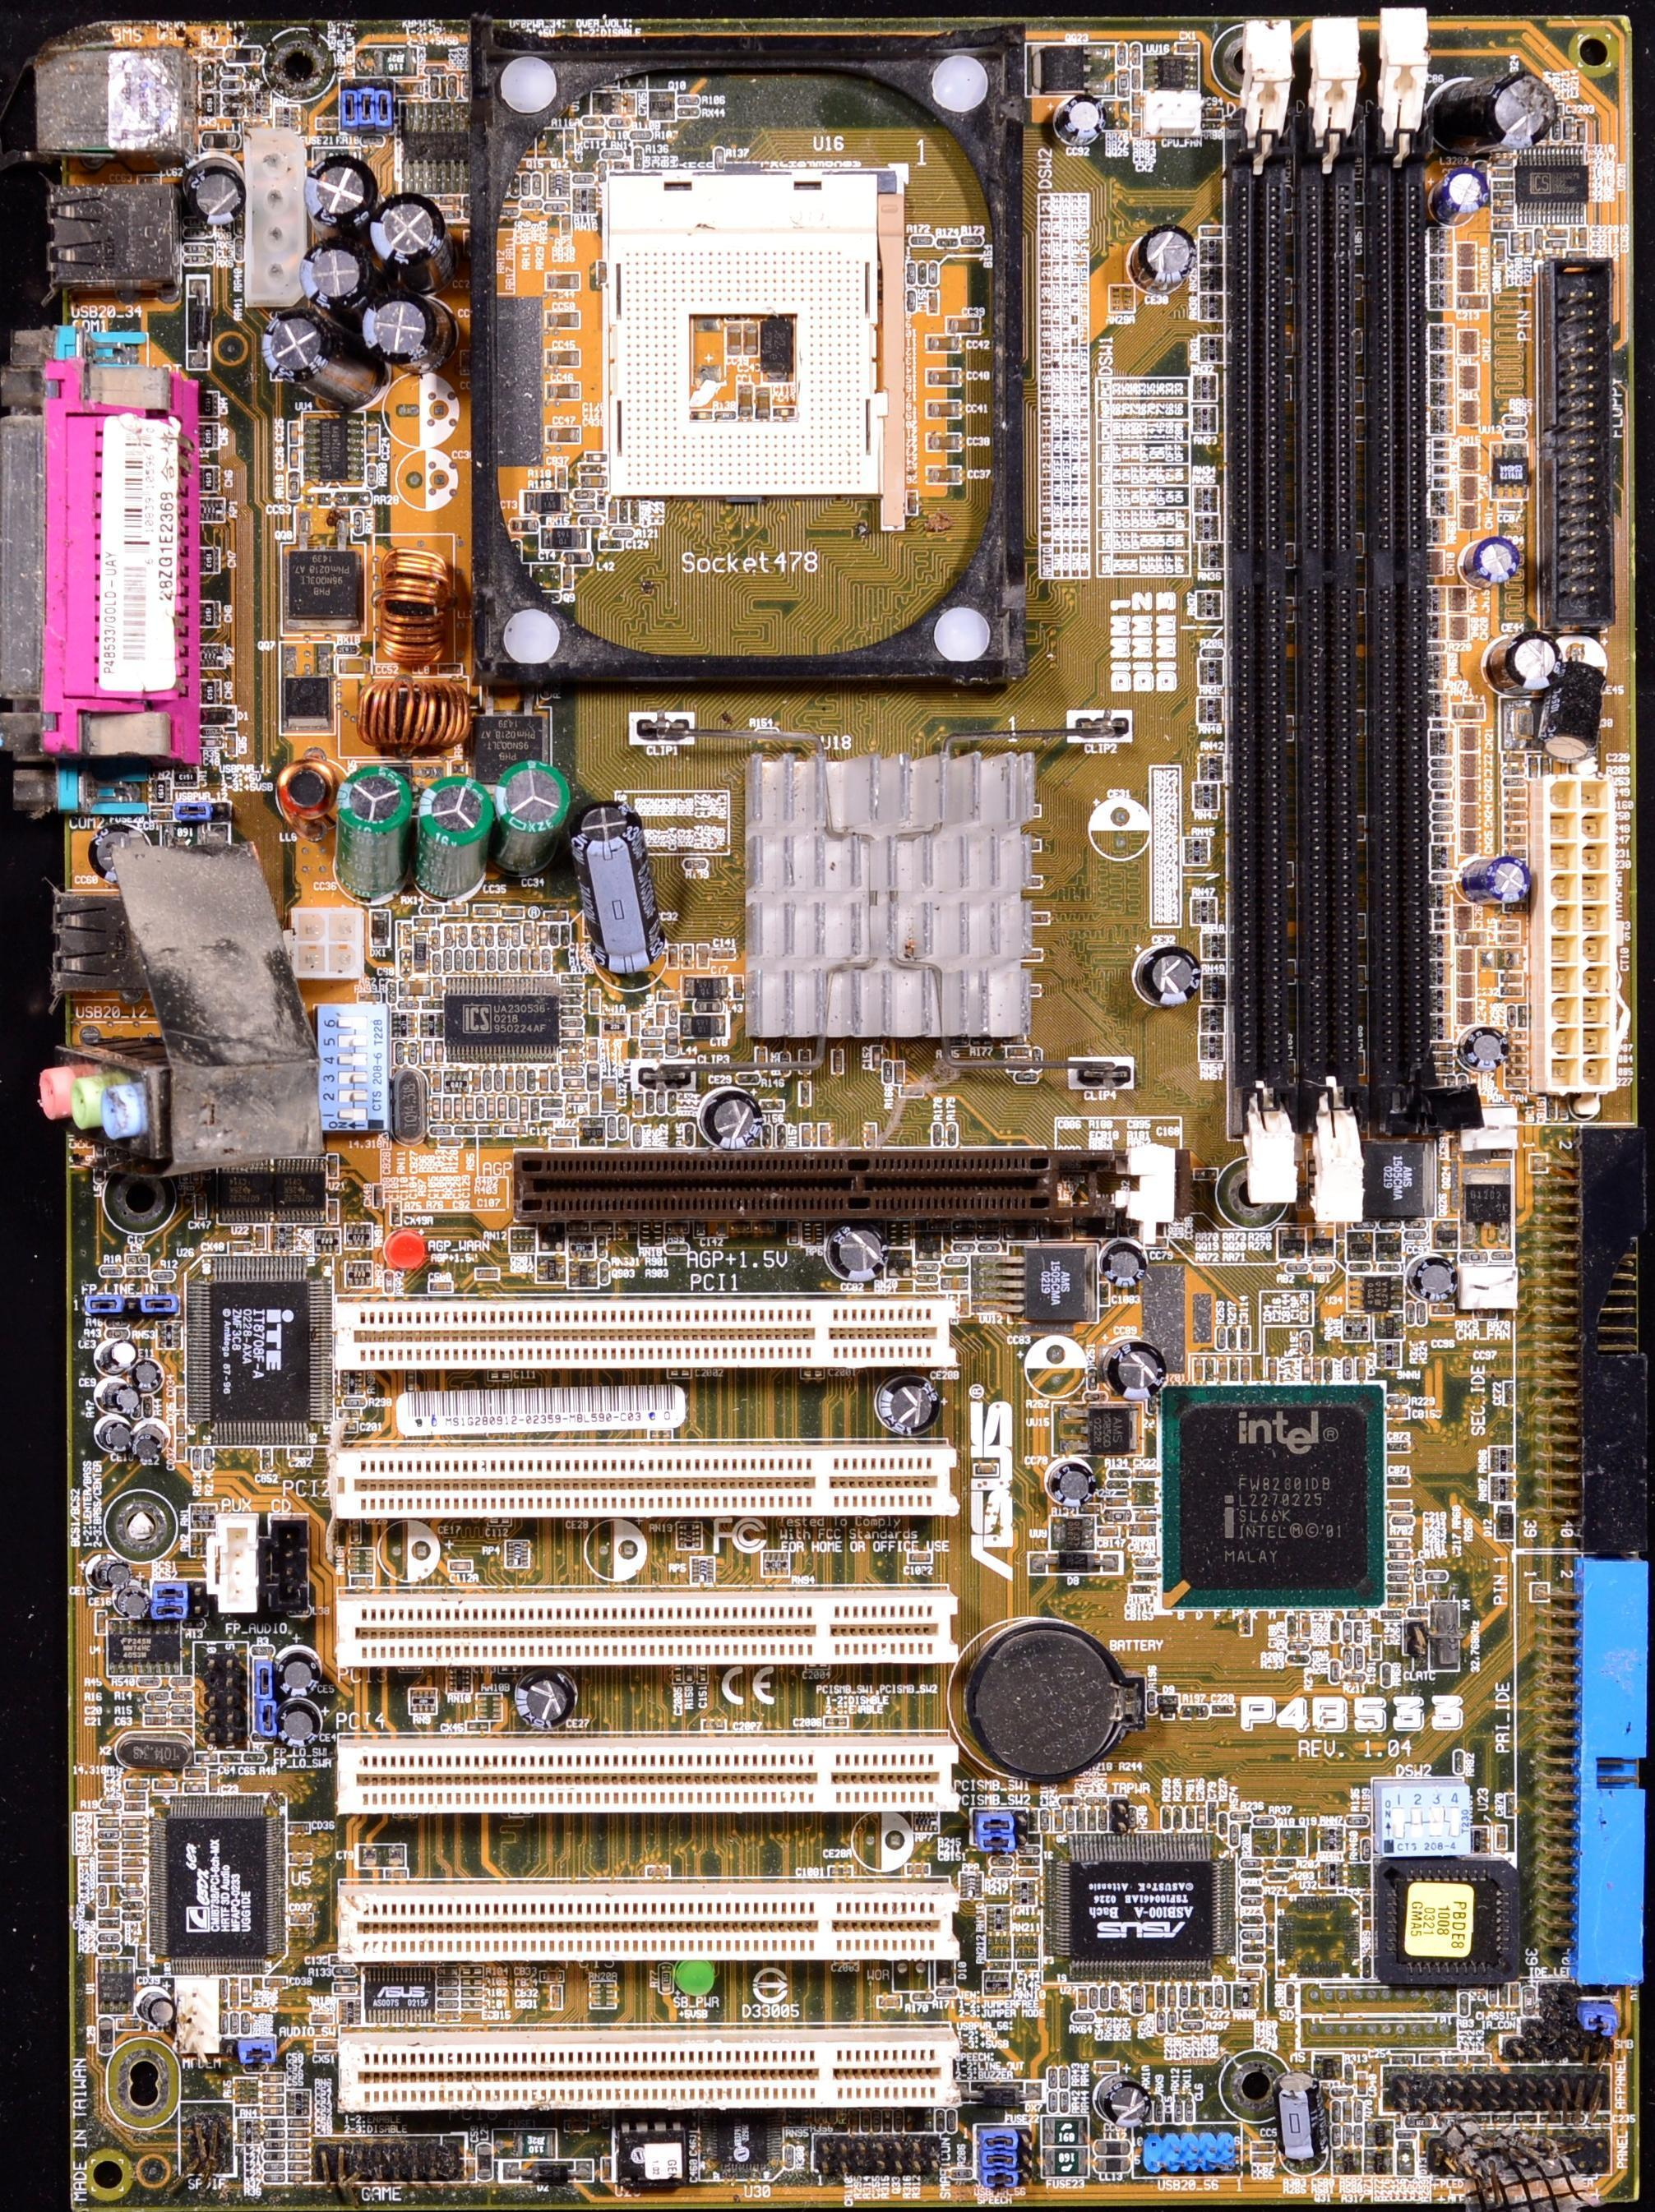Capacitor: (741, 751, 1040, 1041), (1099, 1337, 1168, 1402), (510, 1671, 589, 1728), (1043, 1457, 1098, 1505), (95, 1379, 141, 1416), (86, 1558, 134, 1590), (135, 1421, 172, 1466), (113, 1587, 152, 1623), (97, 1420, 134, 1454), (737, 384, 752, 420), (1216, 1356, 1231, 1385), (286, 1820, 314, 1836), (368, 423, 381, 455), (707, 947, 737, 962), (908, 1548, 932, 1565), (254, 1224, 267, 1250), (1384, 1406, 1411, 1420), (1127, 1523, 1154, 1537), (1299, 1609, 1312, 1637), (520, 921, 535, 945), (195, 1196, 208, 1221), (125, 1254, 150, 1266), (1132, 1467, 1158, 1480), (123, 1801, 148, 1814), (1026, 1808, 1040, 1834), (1250, 2141, 1277, 2154), (617, 497, 631, 524), (1497, 931, 1521, 945), (475, 947, 487, 974), (658, 990, 685, 1002), (441, 1096, 453, 1120), (428, 1283, 455, 1295), (260, 1447, 272, 1471), (1412, 1559, 1425, 1583), (823, 1717, 849, 1729), (701, 1719, 728, 1731), (330, 1953, 355, 1966), (1201, 1985, 1216, 2008), (1250, 2151, 1274, 2165), (1211, 1702, 1232, 1716), (1502, 834, 1528, 847), (559, 985, 585, 997), (486, 1097, 497, 1122), (1385, 1549, 1411, 1561), (218, 1752, 243, 1764), (123, 1778, 150, 1789), (1505, 1794, 1515, 1819), (120, 1858, 146, 1869), (599, 539, 624, 551), (326, 1153, 339, 1177), (1238, 1328, 1251, 1351), (1299, 1359, 1312, 1382), (1286, 1612, 1300, 1635), (1205, 1799, 1218, 1823), (927, 291, 940, 313), (1505, 824, 1528, 835), (502, 906, 525, 918), (1496, 919, 1522, 931), (538, 1069, 550, 1092), (582, 127, 606, 139), (1191, 1360, 1204, 1383), (174, 1386, 186, 1411), (1386, 1441, 1410, 1452), (1095, 1526, 1119, 1537), (1385, 1538, 1409, 1549), (447, 1560, 472, 1572), (1346, 1609, 1370, 1621), (153, 1779, 178, 1791), (119, 1840, 145, 1852), (96, 1849, 120, 1860), (98, 1919, 123, 1930), (1237, 1969, 1262, 1980), (1154, 1985, 1166, 2008), (460, 1999, 484, 2011), (310, 2014, 334, 2025), (315, 2040, 339, 2053), (226, 732, 238, 755), (503, 1124, 530, 1135), (96, 1817, 123, 1828), (238, 1977, 252, 1998), (372, 1184, 384, 1206), (1355, 1358, 1366, 1380), (336, 1421, 358, 1434), (195, 1752, 217, 1764), (122, 1816, 145, 1827), (1443, 2054, 1465, 2067), (288, 2140, 311, 2151), (474, 905, 499, 917), (558, 1029, 585, 1039), (756, 1046, 766, 1072), (564, 1093, 589, 1103), (475, 1125, 501, 1136), (550, 1138, 575, 1148), (228, 1242, 254, 1254), (1205, 1357, 1215, 1383), (1229, 1358, 1240, 1383), (143, 1704, 169, 1715), (142, 1717, 169, 1727), (96, 1908, 121, 1919), (460, 1965, 485, 1975), (263, 1977, 289, 1988), (1509, 1982, 1520, 2008), (288, 422, 298, 448), (1502, 811, 1528, 822), (520, 949, 530, 972), (559, 972, 584, 984), (1499, 984, 1523, 994), (1517, 1004, 1528, 1029), (871, 1045, 881, 1069), (518, 1098, 529, 1122), (1503, 1382, 1514, 1406), (1385, 1475, 1409, 1486), (698, 1662, 709, 1688), (672, 1665, 683, 1686), (122, 1791, 146, 1803), (99, 1862, 120, 1873), (96, 1873, 120, 1884), (120, 1873, 145, 1884), (1167, 1984, 1177, 2008), (229, 1985, 240, 2008), (1467, 2055, 1492, 2067), (286, 2150, 312, 2160), (287, 2171, 311, 2182), (629, 500, 640, 525), (199, 737, 223, 748), (1128, 1585, 1157, 1593), (1131, 92, 1143, 114), (497, 1096, 508, 1120), (464, 1096, 475, 1119), (453, 1097, 465, 1120), (431, 1098, 441, 1120), (1431, 1303, 1454, 1314), (1240, 1356, 1250, 1379), (175, 1414, 186, 1437), (289, 1447, 312, 1458), (1053, 1808, 1064, 1831), (460, 1988, 483, 1997), (262, 2107, 284, 2117), (287, 2162, 310, 2173), (1504, 787, 1526, 797), (1504, 800, 1526, 810), (655, 1004, 668, 1024), (531, 948, 541, 973), (539, 924, 549, 946), (589, 1094, 600, 1116), (176, 1438, 187, 1460), (1135, 1571, 1156, 1582), (1189, 1985, 1200, 2006), (1077, 1988, 1089, 2009), (1357, 2072, 1367, 2094), (286, 448, 298, 469), (431, 1069, 441, 1092), (562, 1078, 585, 1088), (184, 1771, 209, 1780), (1197, 1805, 1207, 1830), (1088, 1808, 1097, 1833), (288, 1914, 312, 1924), (261, 2085, 285, 2094), (557, 465, 566, 484), (473, 1069, 481, 1091), (554, 1127, 577, 1136), (1131, 114, 1140, 136), (1077, 1808, 1086, 1831), (123, 1829, 145, 1838), (1017, 1857, 1040, 1867), (1017, 1868, 1040, 1877), (460, 1977, 483, 1987), (262, 2095, 285, 2104), (1343, 2100, 1352, 2123), (287, 2130, 310, 2140), (531, 1099, 539, 1124), (169, 1716, 194, 1724), (263, 2072, 284, 2082), (288, 2117, 310, 2127)
Connector: (1362, 5, 1467, 1186), (1201, 33, 1306, 1212), (1301, 33, 1366, 1235), (335, 2024, 967, 2115), (338, 1874, 957, 1966), (330, 1587, 962, 1674), (330, 1732, 965, 1812), (334, 1448, 959, 1522), (336, 1304, 959, 1369), (1532, 769, 1629, 1109)
IC: (1158, 1384, 1386, 1605), (181, 1252, 336, 1444), (1040, 1834, 1236, 1981), (148, 1793, 289, 1975), (300, 412, 365, 490), (1052, 1402, 1143, 1455), (105, 1618, 183, 1677), (214, 1153, 270, 1224), (271, 1157, 328, 1223)
Resistor: (335, 490, 371, 508), (1177, 1702, 1208, 1720), (286, 469, 302, 502), (1346, 1217, 1381, 1231), (781, 2144, 800, 2169), (1116, 69, 1131, 99), (340, 1396, 372, 1409), (908, 231, 934, 248), (682, 857, 711, 872), (97, 1263, 125, 1278), (616, 1115, 631, 1140), (362, 465, 379, 489), (571, 173, 598, 187), (1271, 1856, 1299, 1869), (1214, 1983, 1227, 2011), (957, 233, 984, 247), (644, 1090, 657, 1115), (914, 1262, 940, 1275), (1341, 1356, 1355, 1383), (231, 211, 246, 238), (611, 527, 636, 540), (1129, 41, 1143, 67), (335, 642, 362, 655), (930, 1120, 942, 1149), (183, 228, 212, 240), (381, 1272, 396, 1294), (1351, 1647, 1366, 1669), (1452, 1749, 1467, 1773), (460, 73, 473, 100), (508, 948, 520, 974), (558, 1051, 585, 1064), (560, 1065, 584, 1078), (665, 1089, 678, 1118), (681, 1124, 695, 1148), (1416, 1300, 1426, 1328), (104, 1329, 132, 1341), (190, 1446, 201, 1474), (1172, 1804, 1184, 1831), (530, 172, 544, 196), (1110, 1983, 1121, 2010), (1045, 2067, 1058, 2090), (352, 510, 364, 533), (1392, 1514, 1413, 1529), (1144, 1692, 1160, 1714), (441, 947, 454, 973), (497, 948, 509, 972), (972, 1036, 997, 1047), (1401, 1218, 1427, 1230), (628, 129, 654, 141), (202, 1447, 215, 1473), (1106, 1468, 1132, 1481), (1285, 1653, 1311, 1665), (1328, 1658, 1341, 1683), (1380, 1662, 1392, 1689), (1056, 1794, 1082, 1805), (1218, 1811, 1229, 1836), (520, 171, 531, 196), (1238, 1868, 1264, 1881), (1285, 1983, 1297, 2009), (908, 1991, 935, 2003), (1089, 1986, 1100, 2011), (1059, 2091, 1071, 2116), (233, 237, 245, 263), (469, 923, 483, 945), (945, 1124, 960, 1147), (774, 1124, 787, 1148), (1298, 1331, 1313, 1354), (631, 146, 645, 169), (1064, 1808, 1077, 1831), (99, 1942, 122, 1956), (544, 201, 567, 213), (457, 925, 469, 949), (486, 947, 497, 971), (430, 953, 442, 977), (676, 95, 701, 107), (560, 1040, 585, 1051), (515, 1068, 526, 1093), (655, 1089, 667, 1115), (508, 1096, 520, 1120), (581, 113, 605, 125), (607, 117, 631, 129), (945, 1255, 968, 1268), (600, 147, 624, 160), (1097, 1808, 1108, 1831), (95, 1830, 120, 1841), (987, 1855, 1011, 1868), (121, 1899, 146, 1911), (334, 1965, 358, 1978), (436, 1965, 460, 1977), (441, 926, 455, 947), (526, 1067, 538, 1094), (104, 1317, 132, 1328), (1387, 1594, 1415, 1605), (133, 1676, 162, 1688), (168, 1704, 194, 1716), (1161, 1804, 1172, 1831), (1016, 1844, 1038, 1858), (515, 198, 543, 209), (1180, 2020, 1208, 2031), (181, 242, 209, 254), (429, 76, 441, 99), (560, 923, 572, 946), (462, 947, 475, 969), (1506, 1004, 1517, 1027), (549, 1069, 561, 1091), (474, 1096, 488, 1120), (676, 108, 700, 119), (632, 1124, 645, 1148), (1311, 1261, 1334, 1273), (1133, 1557, 1157, 1568), (1387, 1573, 1410, 1584), (933, 1987, 956, 1998), (239, 2011, 252, 2034), (1058, 2067, 1070, 2088), (264, 2162, 287, 2173), (419, 905, 445, 916), (541, 948, 552, 972), (453, 949, 465, 974), (1401, 1230, 1428, 1241), (1343, 1621, 1353, 1648), (243, 1753, 269, 1764), (1240, 1914, 1266, 1925), (96, 1932, 122, 1942), (1343, 2062, 1353, 2088), (182, 255, 209, 266), (426, 1126, 455, 1135), (446, 75, 458, 99), (559, 1006, 585, 1017), (560, 1018, 584, 1028), (483, 1068, 494, 1092), (504, 1069, 514, 1092), (540, 1108, 565, 1119), (606, 1115, 617, 1139), (1381, 1218, 1403, 1230), (1227, 1327, 1238, 1351), (169, 1676, 193, 1688), (146, 1690, 171, 1701), (1083, 1795, 1107, 1806), (1347, 1814, 1368, 1826), (1237, 1857, 1262, 1868), (1239, 1885, 1264, 1896), (122, 1911, 146, 1922), (1240, 1943, 1264, 1954), (436, 1978, 460, 1988), (219, 1976, 229, 2000), (436, 1999, 460, 2009), (1459, 1994, 1469, 2019), (1181, 2009, 1206, 2020), (1072, 2011, 1093, 2024), (1047, 2089, 1058, 2113), (937, 235, 958, 247), (689, 409, 714, 421), (199, 727, 223, 737), (1501, 765, 1523, 776), (262, 2172, 290, 2182), (549, 925, 559, 947), (559, 996, 582, 1006), (1506, 1055, 1528, 1065), (1505, 1067, 1528, 1077), (1505, 1079, 1528, 1089), (541, 1097, 564, 1108), (978, 1242, 1001, 1254), (1135, 1512, 1158, 1522), (1425, 1572, 1448, 1581), (1342, 1646, 1352, 1669), (684, 1663, 694, 1685), (1230, 1812, 1251, 1823), (1252, 1817, 1274, 1826), (97, 1884, 109, 1906), (1167, 2011, 1178, 2034), (218, 2011, 229, 2035), (1130, 67, 1141, 90), (1503, 776, 1526, 787), (494, 926, 506, 945), (1404, 1300, 1414, 1326), (120, 1888, 146, 1898), (455, 1125, 477, 1137), (1215, 1327, 1225, 1348), (1388, 1395, 1408, 1406), (1343, 1673, 1365, 1684), (1178, 1984, 1189, 2005), (1156, 2011, 1167, 2034), (229, 2012, 239, 2033), (1183, 2101, 1195, 2122), (493, 1066, 503, 1092), (1285, 1263, 1310, 1272), (1385, 1562, 1410, 1572), (1286, 1640, 1311, 1650), (169, 1690, 192, 1700), (1042, 1808, 1050, 1831), (97, 1841, 121, 1850), (1239, 1930, 1264, 1940), (511, 926, 522, 946), (429, 930, 441, 949), (954, 1243, 974, 1253), (1354, 1623, 1365, 1642), (1505, 1044, 1527, 1053), (1387, 1584, 1410, 1593), (99, 1799, 121, 1809), (1239, 1897, 1262, 1907), (436, 1989, 460, 1999), (1100, 1986, 1110, 2008), (713, 410, 736, 419), (485, 924, 494, 945), (991, 1868, 1012, 1877), (1174, 2102, 1181, 2124), (1116, 44, 1126, 66)
Transistor: (275, 528, 369, 631), (279, 642, 335, 737), (1024, 40, 1116, 98), (1305, 1226, 1336, 1260), (1343, 1232, 1375, 1263), (1278, 1227, 1306, 1258), (1103, 100, 1129, 130), (1375, 1232, 1400, 1262)
